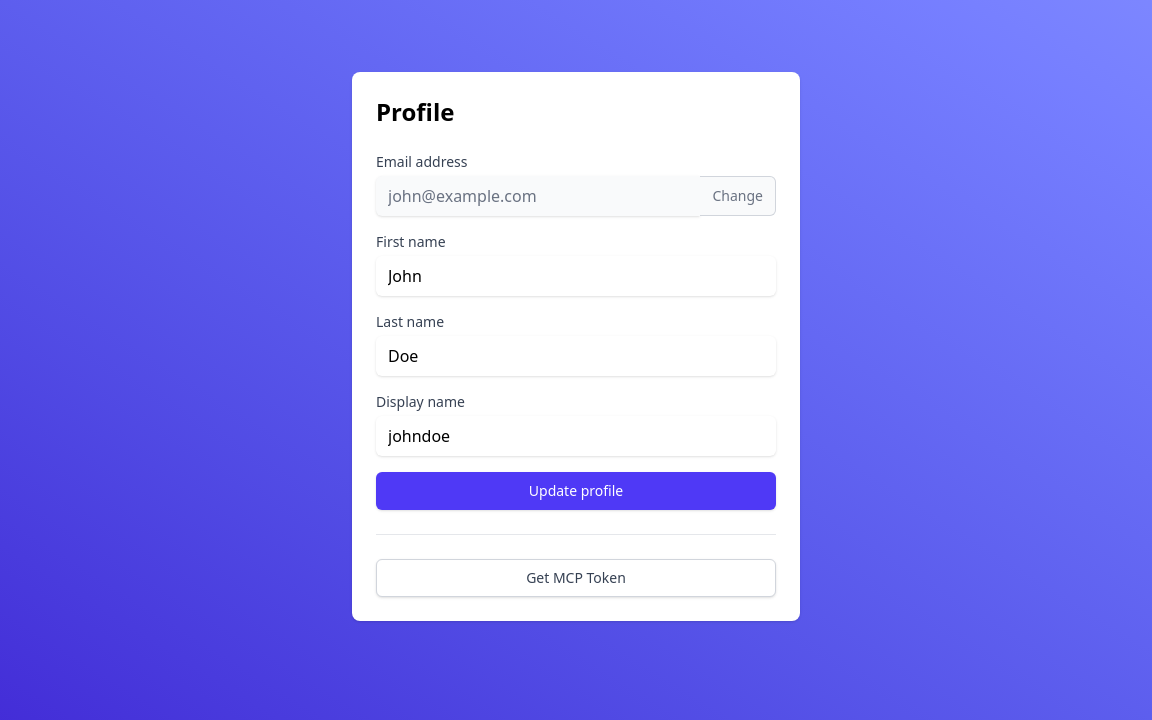
Profile Component › handles successful profile update
This screenshot has width=1152, height=720.
Replace the text in the field labelled "First name" with "Jane": (576, 276) 376,256 -> 776,296
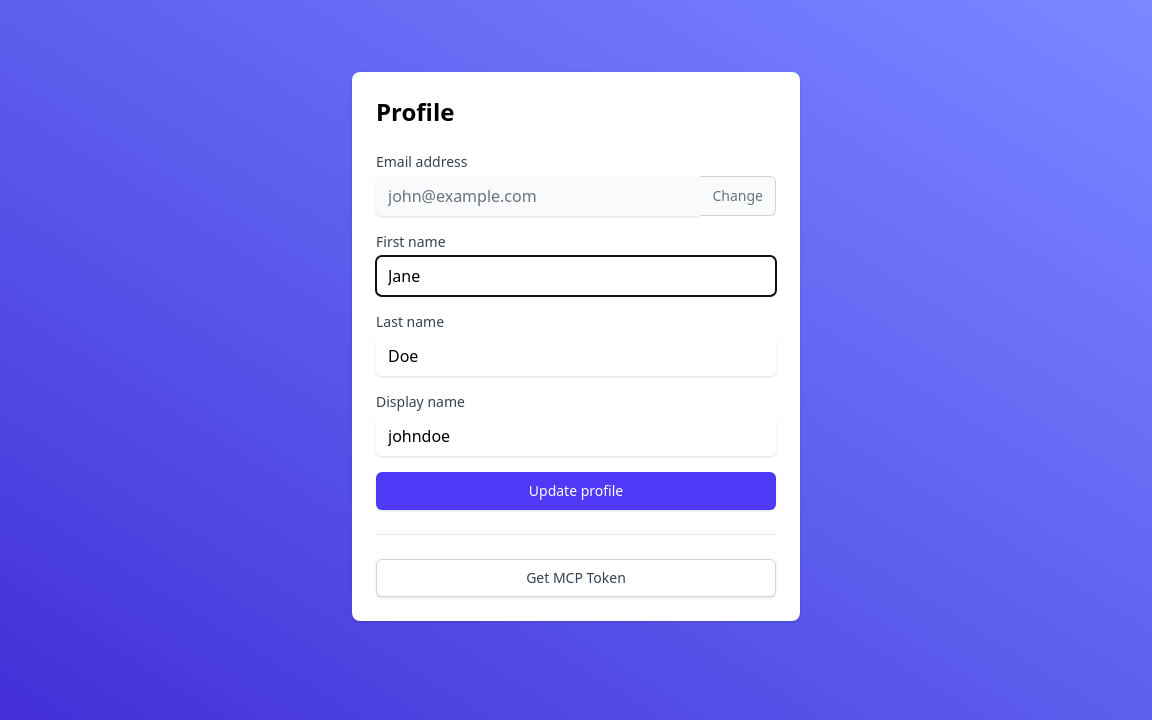
Click the button "Update profile": (576, 491) 376,472 -> 776,510
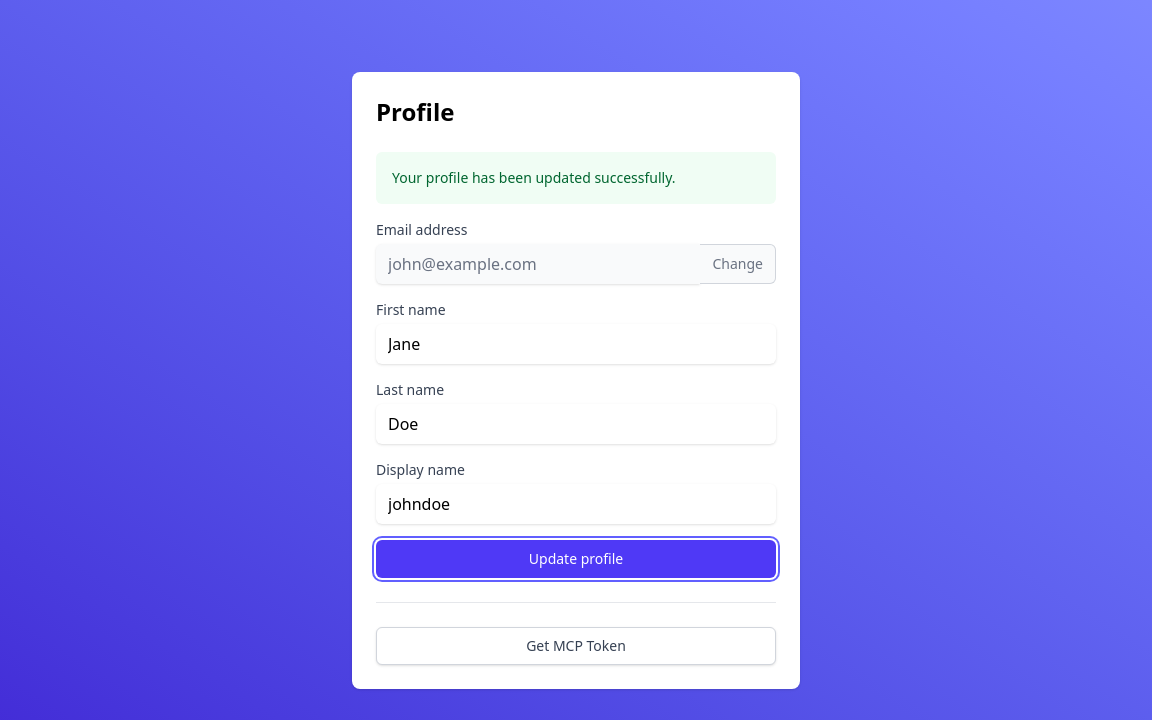
Expected: the heading "Profile" is shown, 376,95 -> 454,128
Now the text "Your profile has been updated successfully." is shown, box 392,168 -> 676,187
